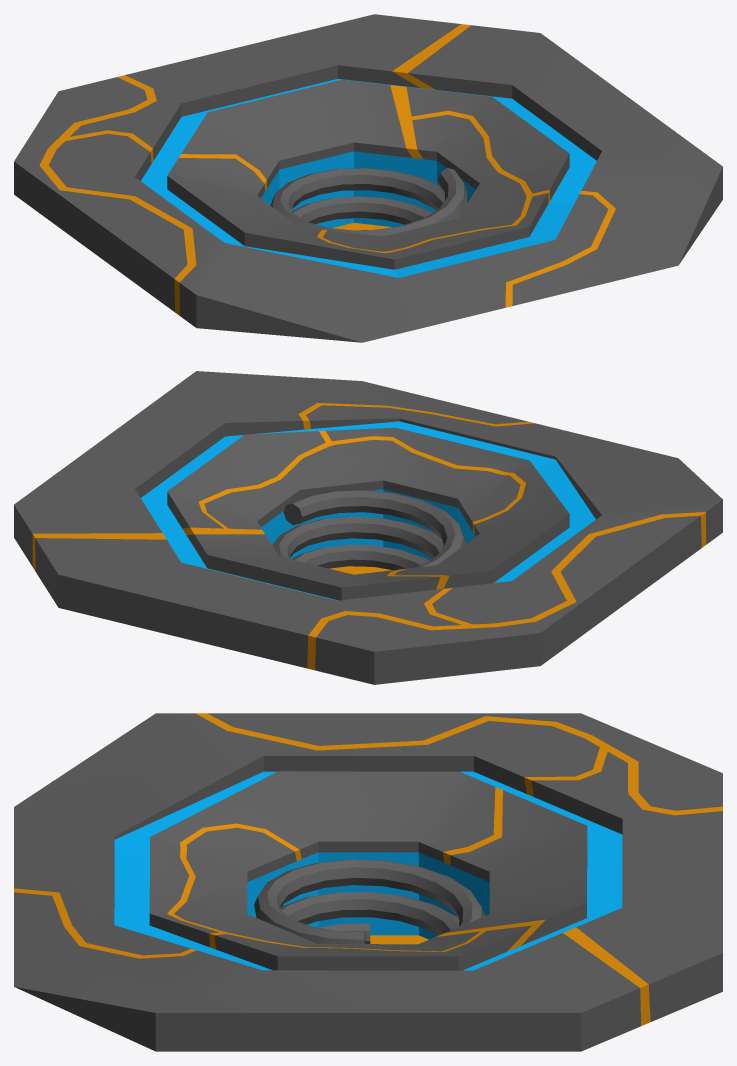
Rendered from Bounce_Volcan.fbx.
3 renders of one model, top to bottom at view 1: azimuth 30°, elevation 25°; view 2: azimuth 150°, elevation 25°; view 3: azimuth 270°, elevation 25°, orthographic. The views are drawn at different scales.
Parts seen in each view (by area): view 1: polySurface8; view 2: polySurface8; view 3: polySurface8.
Part boxes in pixels (x1,y1,x2,y2): polySurface8: [14, 14, 722, 342]; polySurface8: [14, 371, 722, 684]; polySurface8: [14, 713, 722, 1051].
Bounding box in the file's own units: 0.2358 × 0.0454 × 0.2358.
